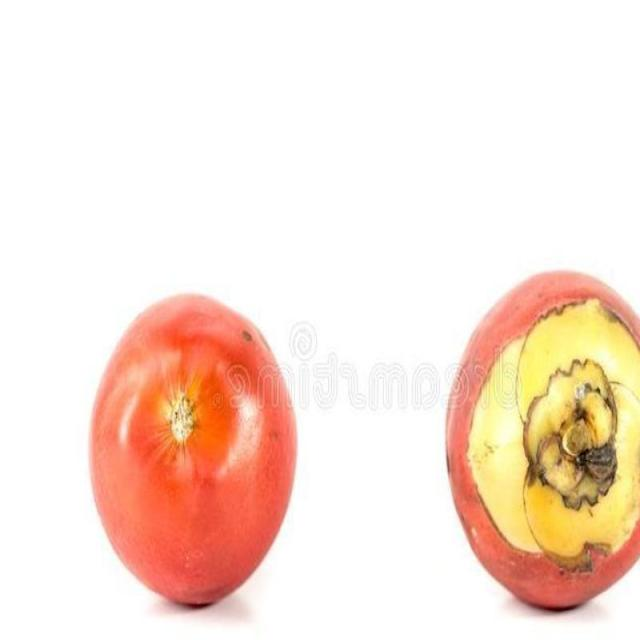good: (87, 293, 301, 610), (444, 270, 639, 614)
